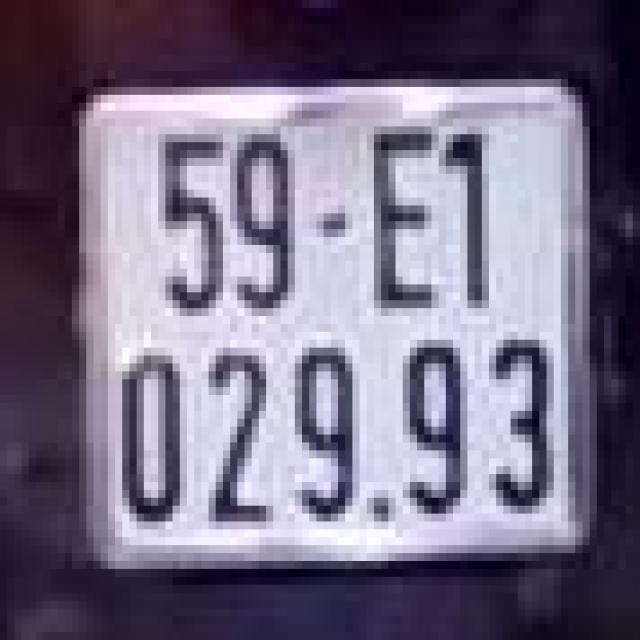0: (115, 336, 187, 533)
1: (442, 126, 507, 332)
2: (194, 344, 273, 541)
3: (496, 328, 561, 541)
5: (144, 122, 230, 336)
9: (392, 328, 478, 541), (234, 122, 313, 328), (284, 336, 363, 533)
E: (359, 118, 446, 340)
